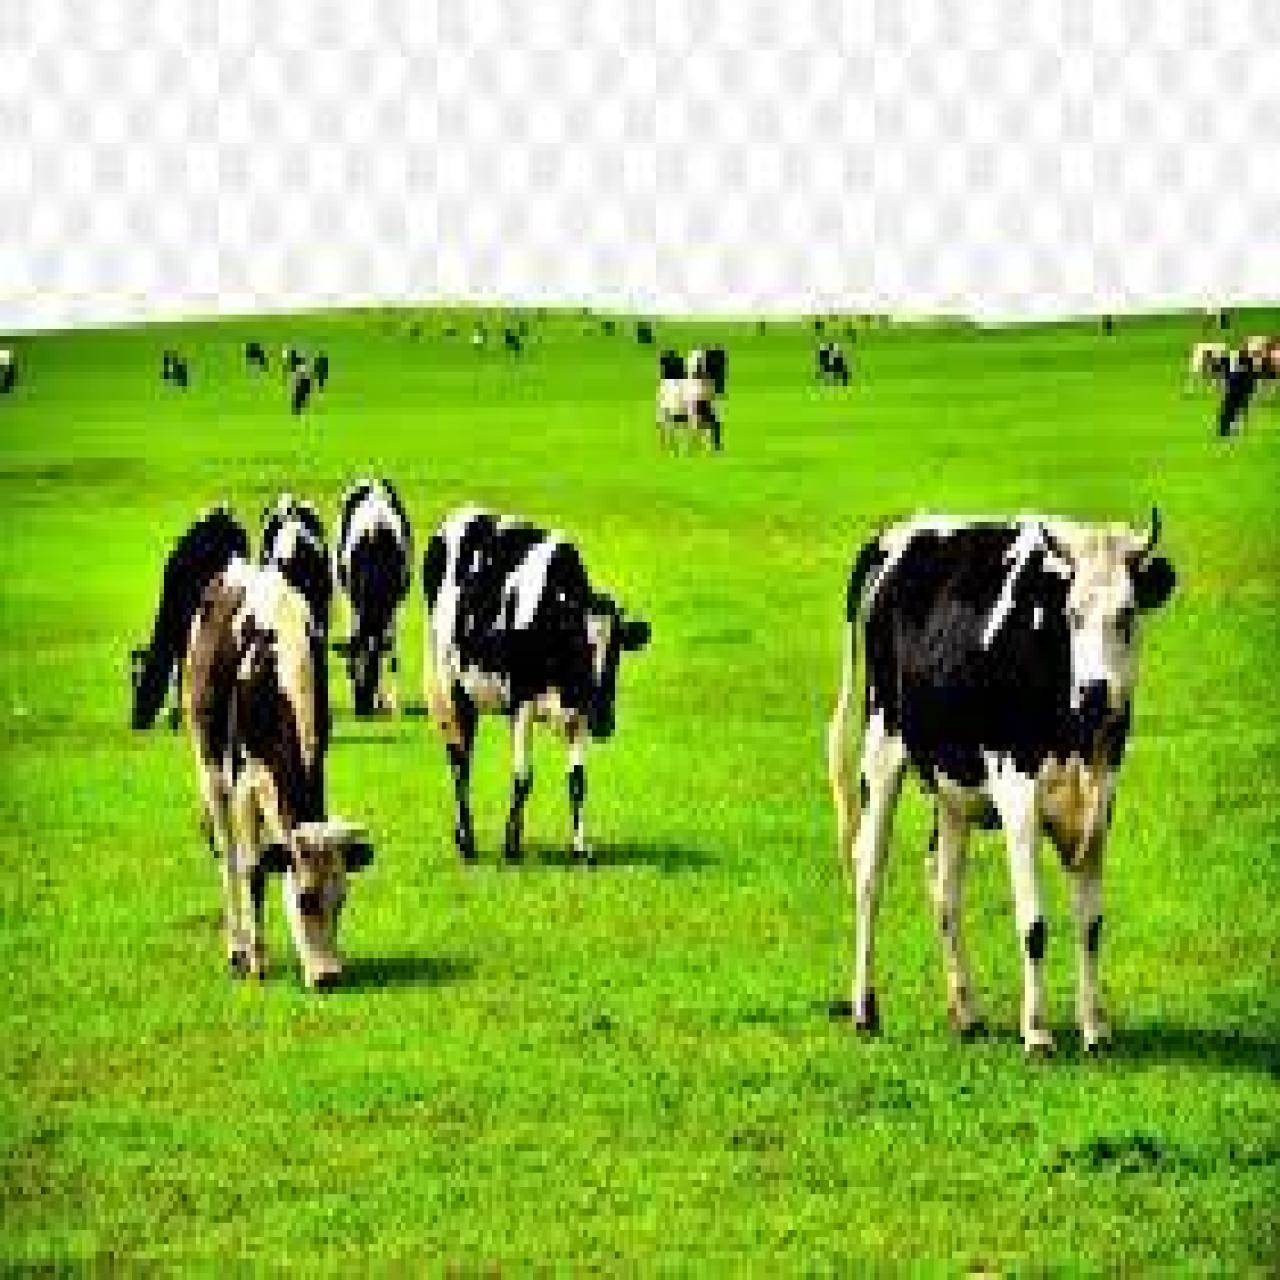cow: (826, 504, 1177, 1069), (181, 554, 376, 990), (423, 504, 652, 862), (128, 504, 251, 733), (335, 471, 417, 722), (263, 493, 335, 736), (652, 368, 720, 461), (1216, 368, 1257, 440), (1189, 340, 1234, 397), (1239, 333, 1280, 389), (816, 340, 852, 397), (688, 347, 729, 397), (287, 368, 314, 425), (280, 340, 308, 382), (659, 347, 686, 390), (162, 350, 189, 394), (241, 336, 268, 372), (312, 350, 331, 394)
